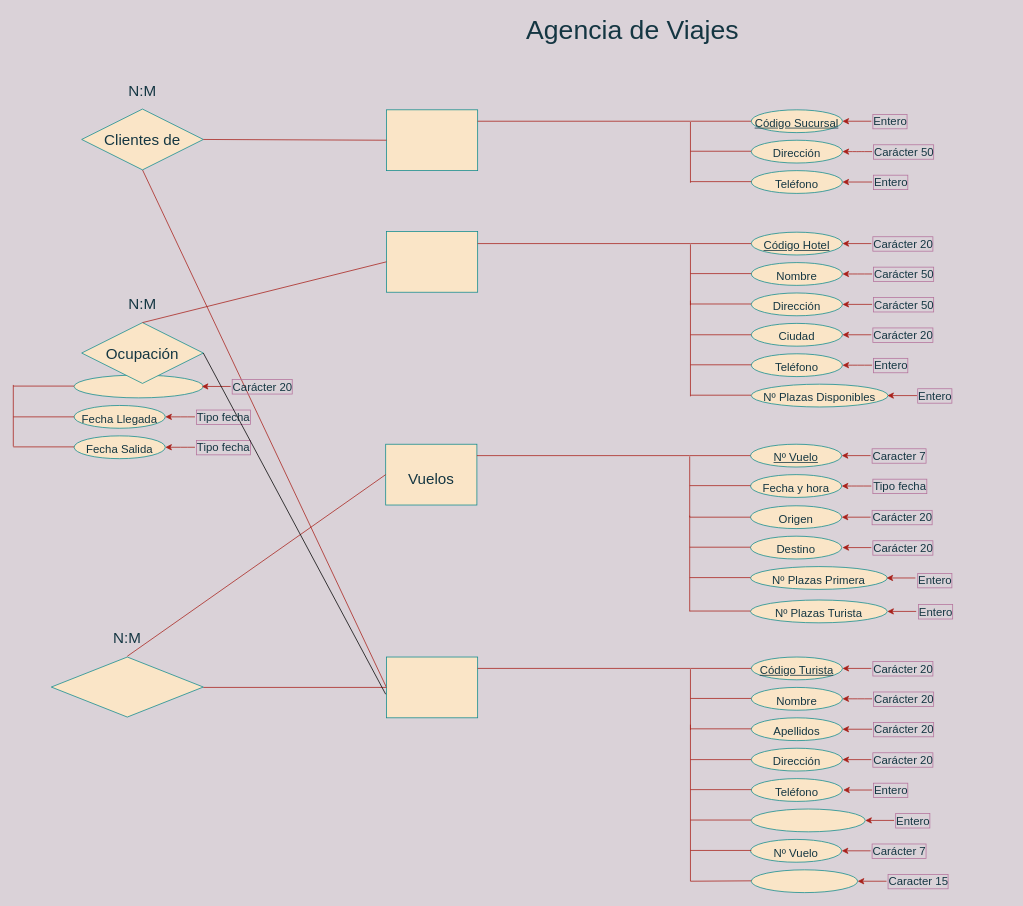
The diagram is 1023 pixels wide and 906 high, and some of its shapes have lost their labels. Each missing label, with the centre of its shape:
"Codigo Sucursal" goes at [807,820].
"Hotel" goes at [432,261].
"Régimen Hospedaje" goes at [138,386].
"Sucursal" goes at [432,140].
"Tiene contratado" goes at [127,686].
"Tipo de plaza" goes at [804,881].
"Turista" goes at [432,687].
